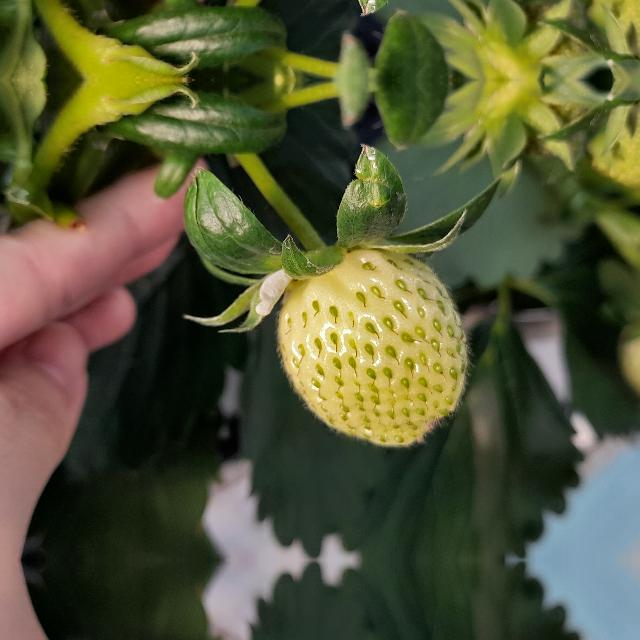Health_25: (274, 248, 474, 448)
